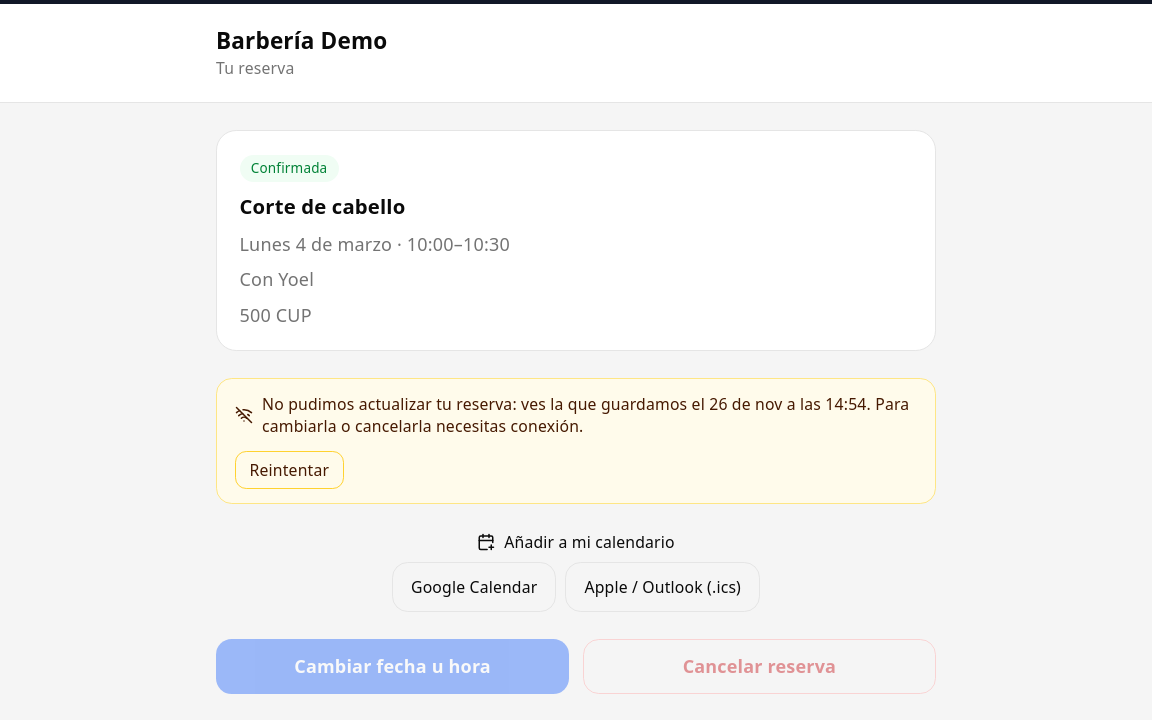
Test: Gestionar mi reserva · conexión lenta o caída › sin conexión muestra la reserva guardada, avisa y no deja cambiarla ni cancelarla
Expected: the text "Corte de cabello" is shown, [240,192,405,220]
Expected: the text "No pudimos actualizar tu reserva: ves la que guardamos" is shown, [262,393,709,415]
Click the button "Reintentar": (289, 470) [235,451,344,489]
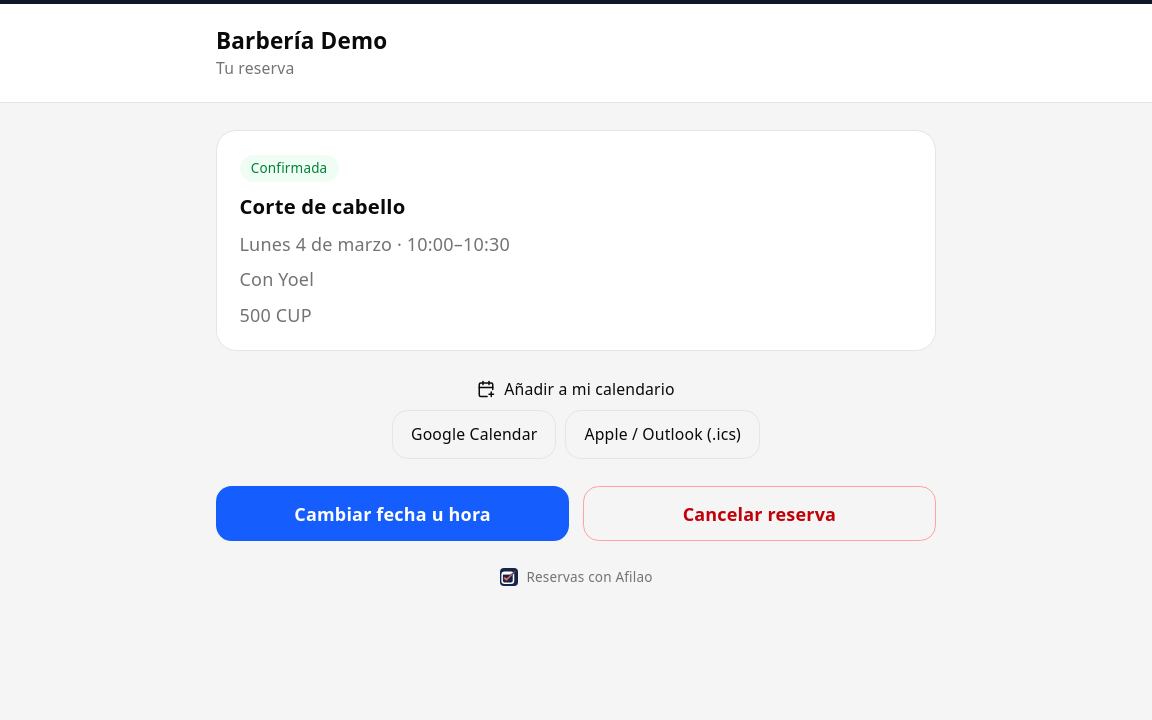
Now the button "Cancelar reserva" is enabled, box [583,486,936,541]
Now the text "No pudimos actualizar tu reserva: ves la que guardamos" is gone
